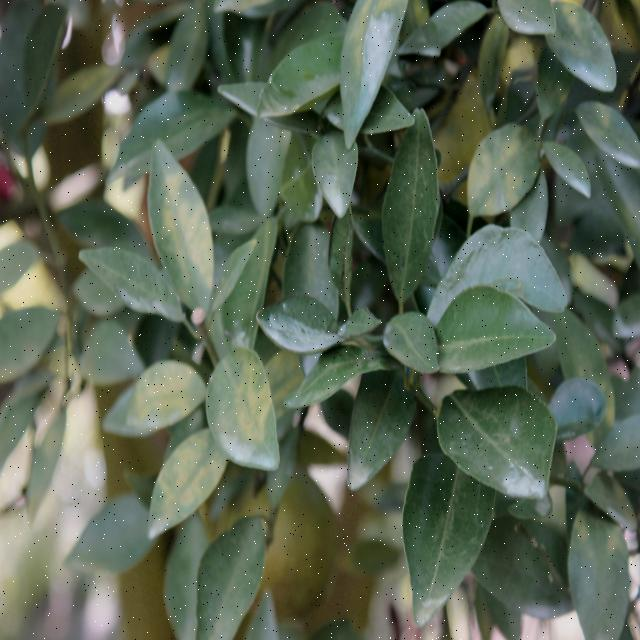blackspot: (261, 292, 335, 341), (316, 150, 336, 189)
